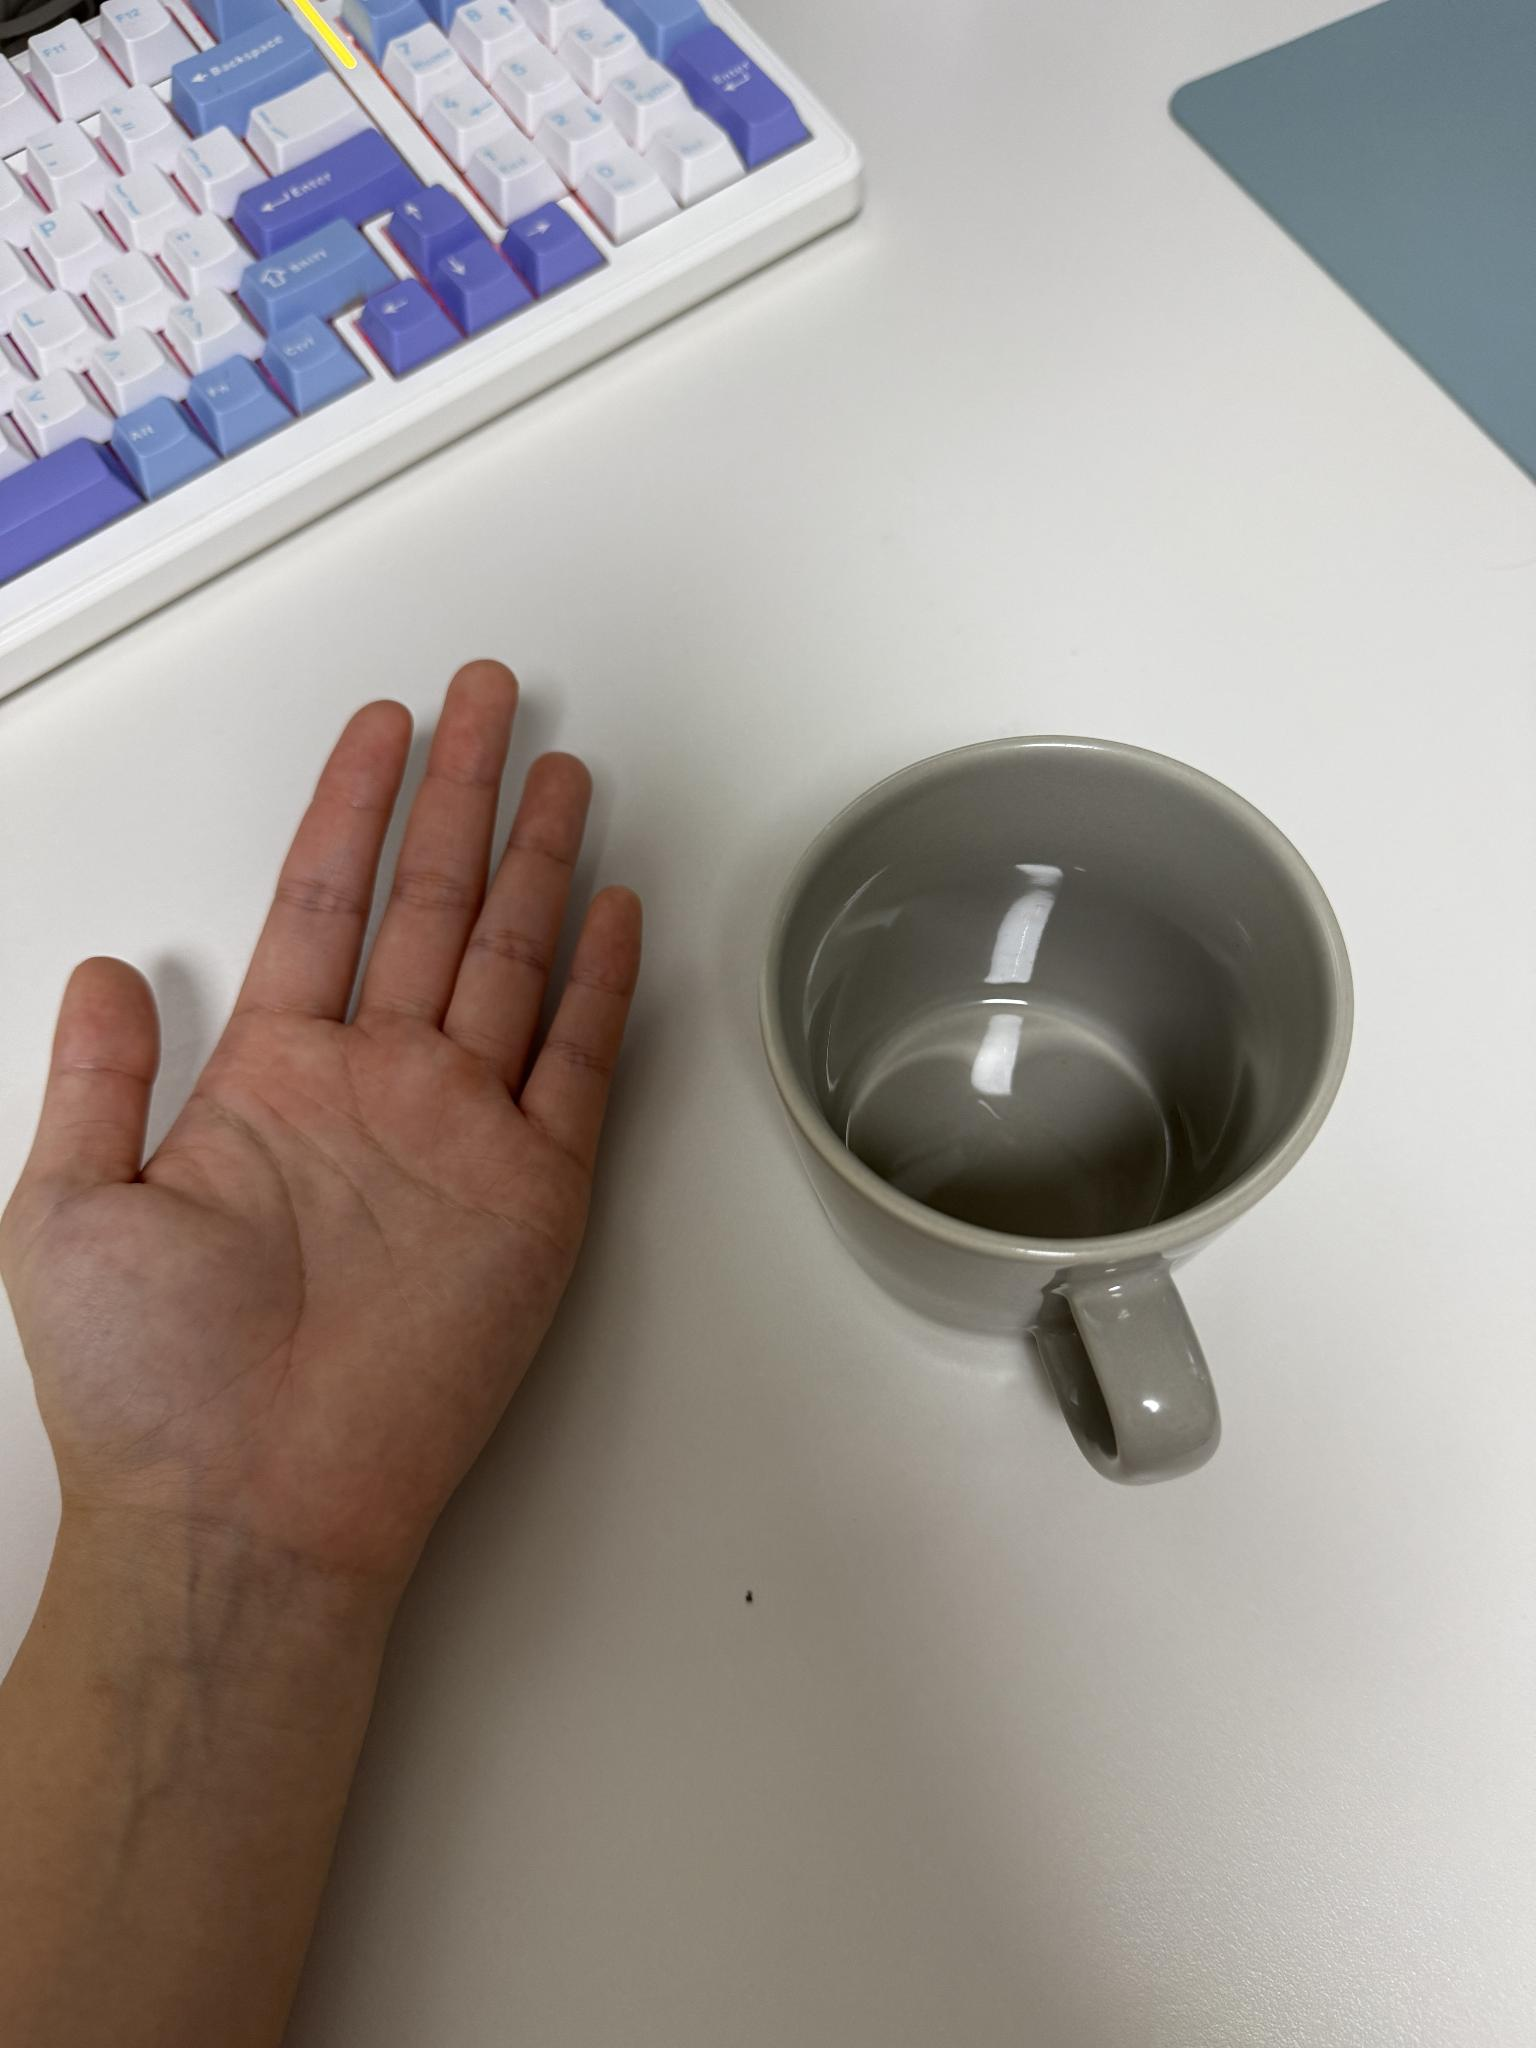open: (0, 610, 687, 1727)
